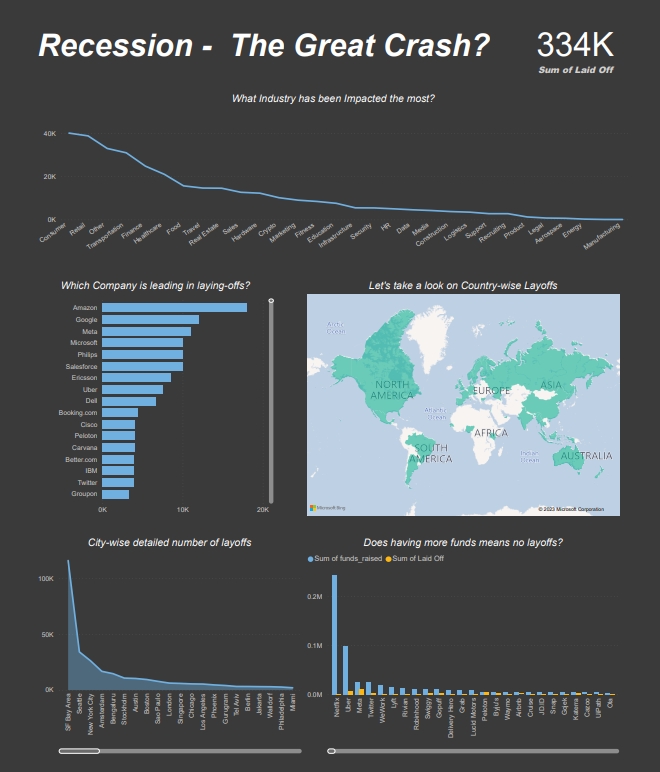

Layout of this report page (visuals, bound fields, positions):
{"tool":"powerbi","page":{"name":"Page 1","canvas":[1200,1400],"ordinal":0},"visuals":[{"type":"areaChart","title":"City-wise detailed number of layoffs","fields":{"Y":["Sum(layoffs.total_laid_off)"],"Category":["layoffs.location"]},"box":[68,968,486,396],"z":0},{"type":"clusteredBarChart","title":"Which Company is leading in laying-offs?","fields":{"Category":["layoffs.company"],"Y":["Sum(layoffs.total_laid_off)"]},"box":[67.5,505,435,430],"z":1},{"type":"lineChart","title":"What Industry has been Impacted the most?","fields":{"Category":["layoffs.industry"],"Y":["Sum(layoffs.total_laid_off)"]},"box":[66,168,1080,308],"z":2},{"type":"filledMap","title":"Let''s take a look on Country-wise Layoffs","fields":{"Category":["layoffs.country"],"Y":["Avg(layoffs.total_laid_off)"]},"box":[554,506,572,430],"z":3},{"type":"card","fields":{"Values":["Sum(layoffs.total_laid_off)"]},"box":[938.3,28.3,208.3,120],"z":4},{"type":"textbox","box":[67,0,871,150],"z":5},{"type":"clusteredColumnChart","title":"Does having more funds means no layoffs?","fields":{"Y":["Sum(layoffs.funds_raised)","Sum(layoffs.Laid Off)"],"Category":["layoffs.company"]},"box":[554,968,572,396],"z":6}]}

Visuals, with their boxes in screenshot pixels (x1, y1, x2, y2), scaled from the page's 1200x1400 canvas onto the 660x772 screenshot:
"City-wise detailed number of layoffs" areaChart: Rect(37, 534, 305, 752)
"Which Company is leading in laying-offs?" clusteredBarChart: Rect(37, 278, 276, 516)
"What Industry has been Impacted the most?" lineChart: Rect(36, 93, 630, 262)
"Let''s take a look on Country-wise Layoffs" filledMap: Rect(305, 279, 619, 516)
card - Sum(layoffs.total_laid_off): Rect(516, 16, 631, 82)
textbox: Rect(37, 0, 516, 83)
"Does having more funds means no layoffs?" clusteredColumnChart: Rect(305, 534, 619, 752)
